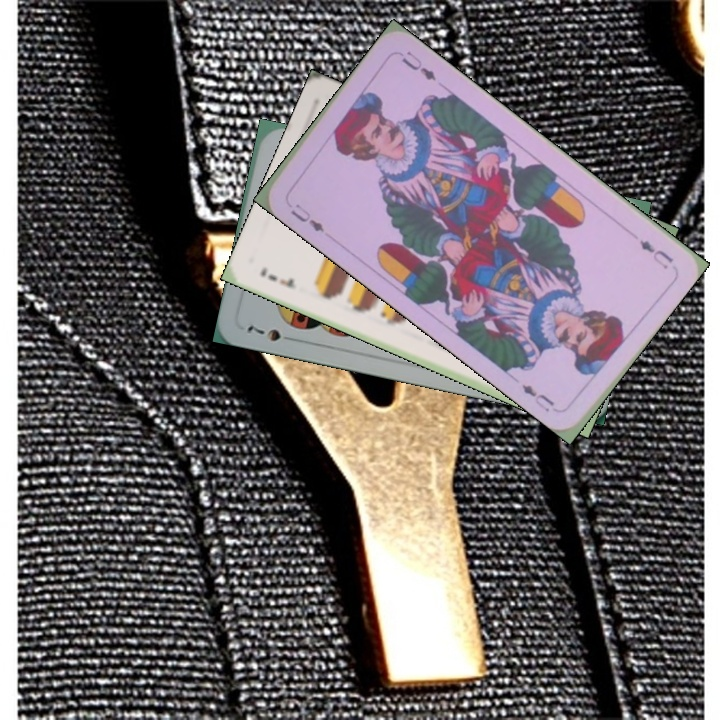E7: (256, 263, 298, 291)
EU: (635, 236, 676, 273), (287, 199, 327, 235)
S7: (243, 320, 299, 344)
